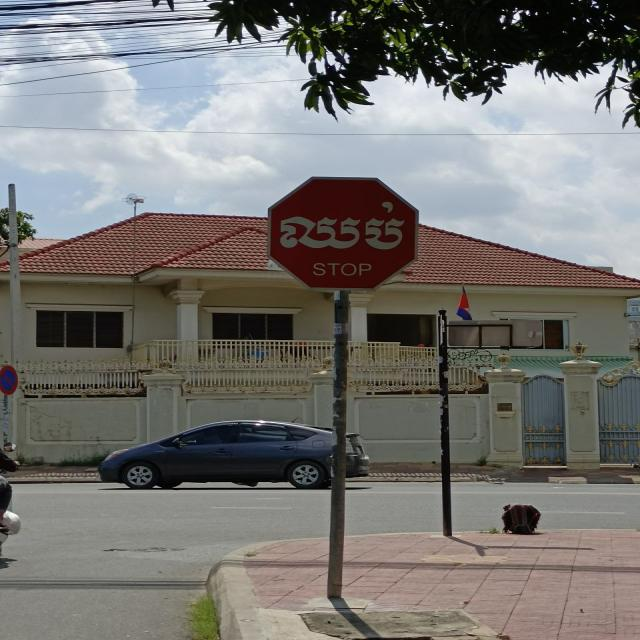Yolov11kh: (272, 199, 411, 259)
